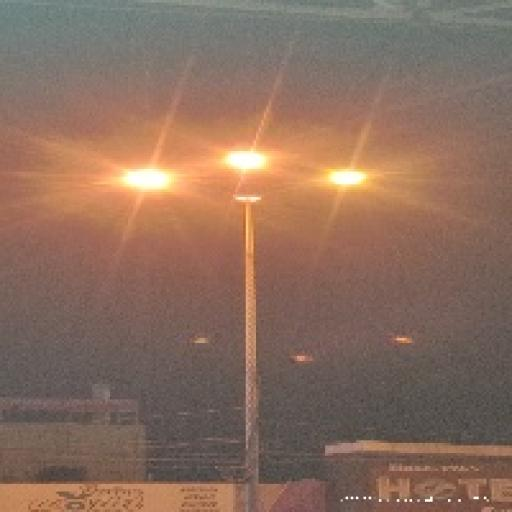Working: (113, 161, 177, 201), (219, 144, 273, 176), (319, 162, 372, 194)
